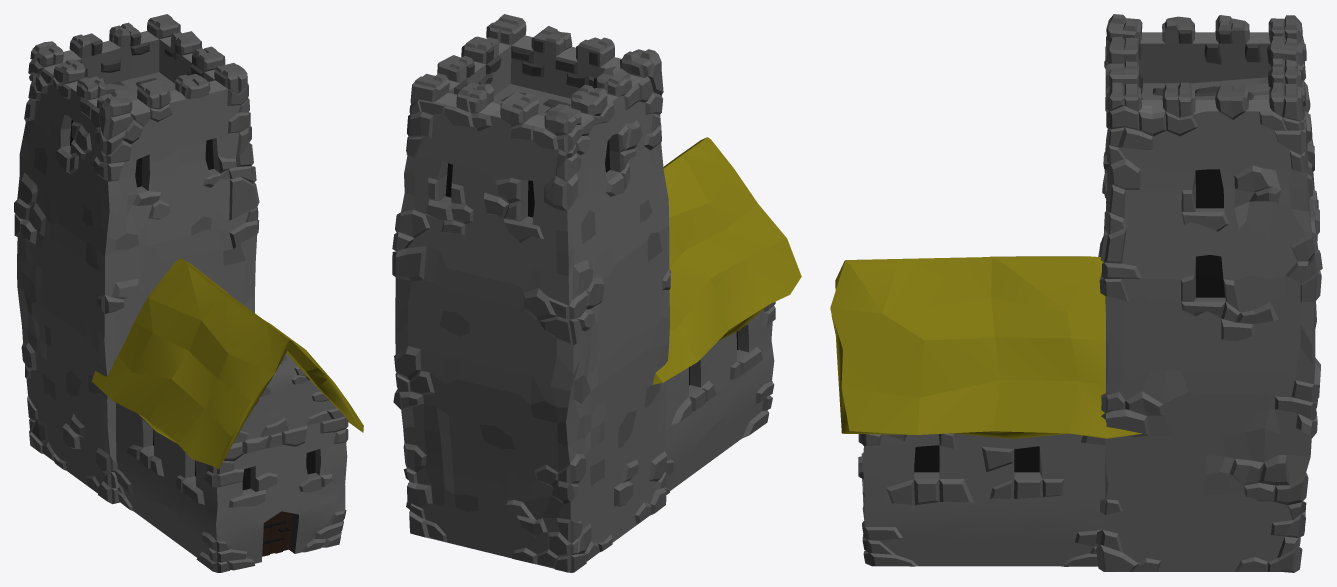
Rendered from Building06.fbx.
3 views of the same model, side by side, from view 1: azimuth 30°, elevation 25°; view 2: azimuth 150°, elevation 25°; view 3: azimuth 270°, elevation 25° (orthographic). The views are drawn at different scales.
Visible parts, largest first — view 1: BuildingTurret01; view 2: BuildingTurret01; view 3: BuildingTurret01.
Part boxes in pixels (x1=…): BuildingTurret01: x1=14, y1=14, x2=363, y2=572; BuildingTurret01: x1=392, y1=14, x2=801, y2=572; BuildingTurret01: x1=830, y1=14, x2=1322, y2=572.
Size of the model in its own units: 2.68 by 6.07 by 5.64.
